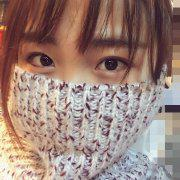OK: (8, 7, 155, 162)
